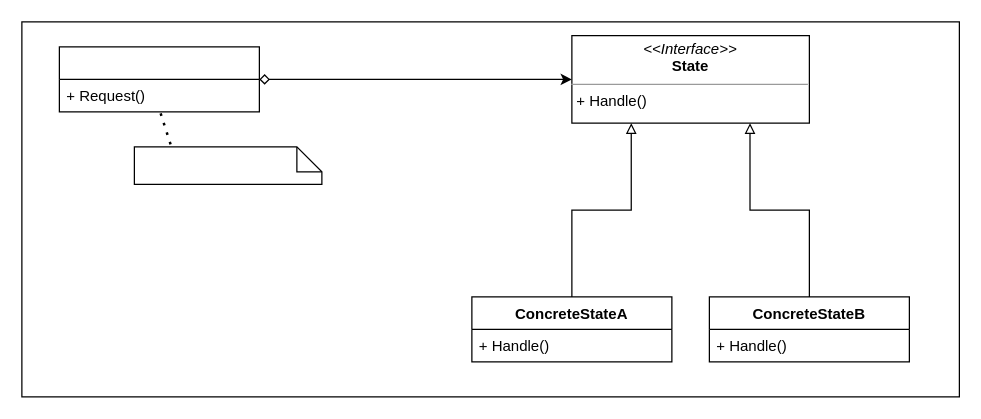
The diagram is 981 pixels wide and 419 high, and some of its shapes have lost their labels. The box of each missing label's shape, as (x1, y1, x2, y2) in pixels:
Context: (58, 46, 259, 112)
state.Handle(): (133, 146, 322, 184)
